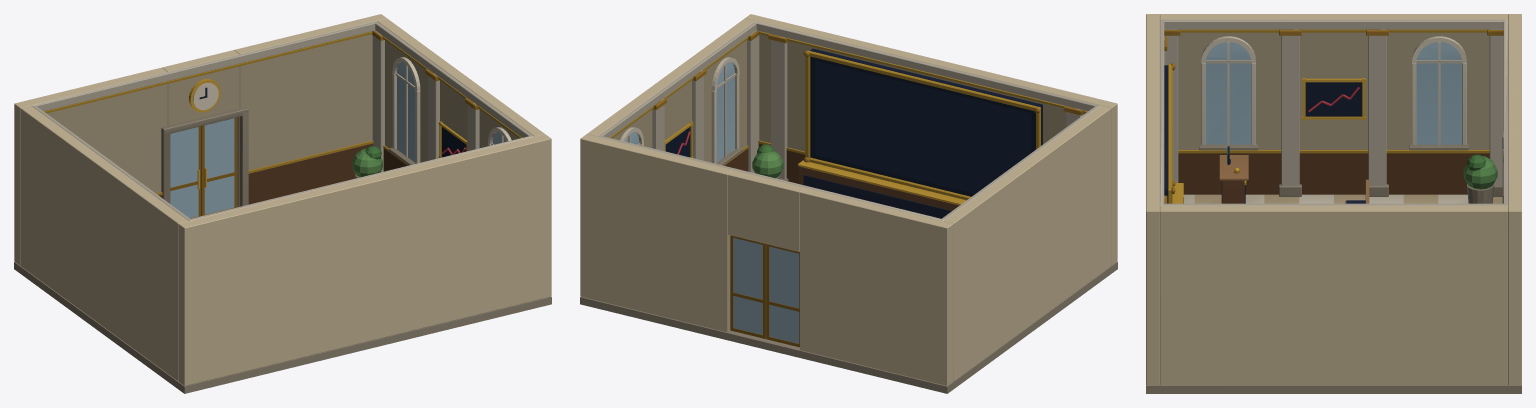
Rendered from stock_exchange_room.glb.
3 views of the same model, side by side, from view 1: azimuth 30°, elevation 25°; view 2: azimuth 150°, elevation 25°; view 3: azimuth 270°, elevation 25° (orthographic). The views are drawn at different scales.
Visible parts, largest first — view 1: exchange_room, front_wall; view 2: exchange_room, front_wall, board_screen; view 3: exchange_room, front_wall.
Boxes of the visible parts, left/top/right/bottom form: exchange_room: left=14, top=18, right=551, bottom=393; front_wall: left=14, top=14, right=386, bottom=265; exchange_room: left=580, top=14, right=1117, bottom=393; front_wall: left=580, top=134, right=953, bottom=385; board_screen: left=815, top=60, right=1031, bottom=193; exchange_room: left=1146, top=14, right=1521, bottom=393; front_wall: left=1502, top=14, right=1521, bottom=385.
Bounding box in the file's own units: 10.2 × 4.4 × 8.2.
